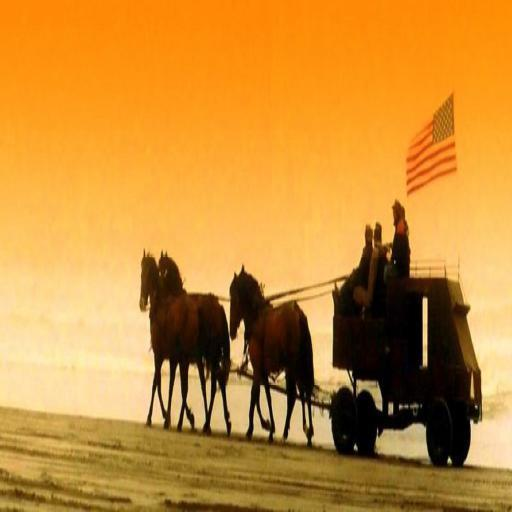horse: (136, 242, 232, 439), (226, 266, 316, 448), (158, 242, 232, 439), (240, 260, 316, 451)
